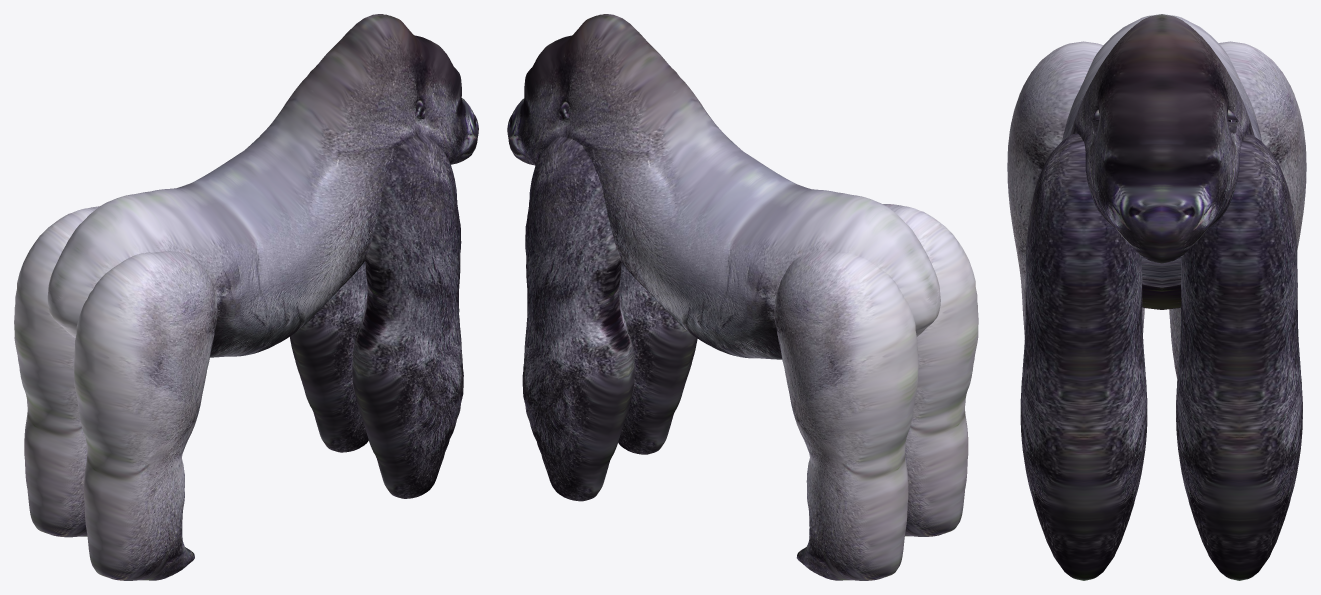
File: cross-river-gorilla.glb
The picture shows the model from 3 angles, left to right: view 1: azimuth 30°, elevation 25°; view 2: azimuth 150°, elevation 25°; view 3: azimuth 270°, elevation 25°; orthographic projection. The views are drawn at different scales.
Parts seen in each view (by area): view 1: mm_frame (9); view 2: mm_frame (9); view 3: mm_frame (9).
Boxes of the visible parts, x1,y1,x2,y2 form: mm_frame (9): (14,14,478,580); mm_frame (9): (507,14,978,580); mm_frame (9): (1007,14,1306,580).
Bounding box in the file's own units: 6.76 × 7.2 × 3.35.
1 material, 1 textured.
